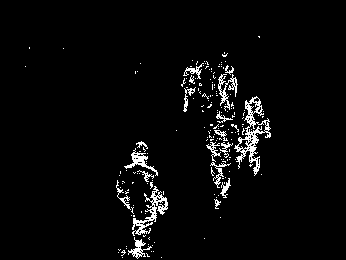person: (117, 138, 168, 259), (204, 110, 242, 209), (240, 94, 271, 179), (216, 65, 240, 111), (179, 56, 197, 111), (197, 60, 214, 109)
